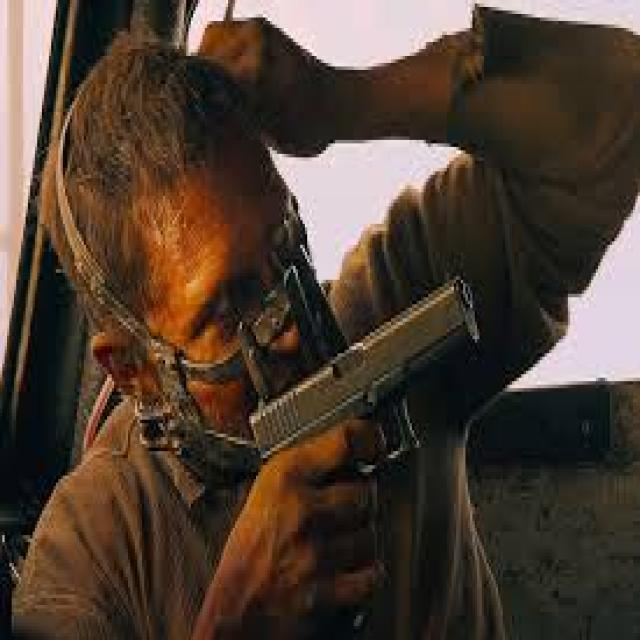weapons: (238, 254, 493, 558)
